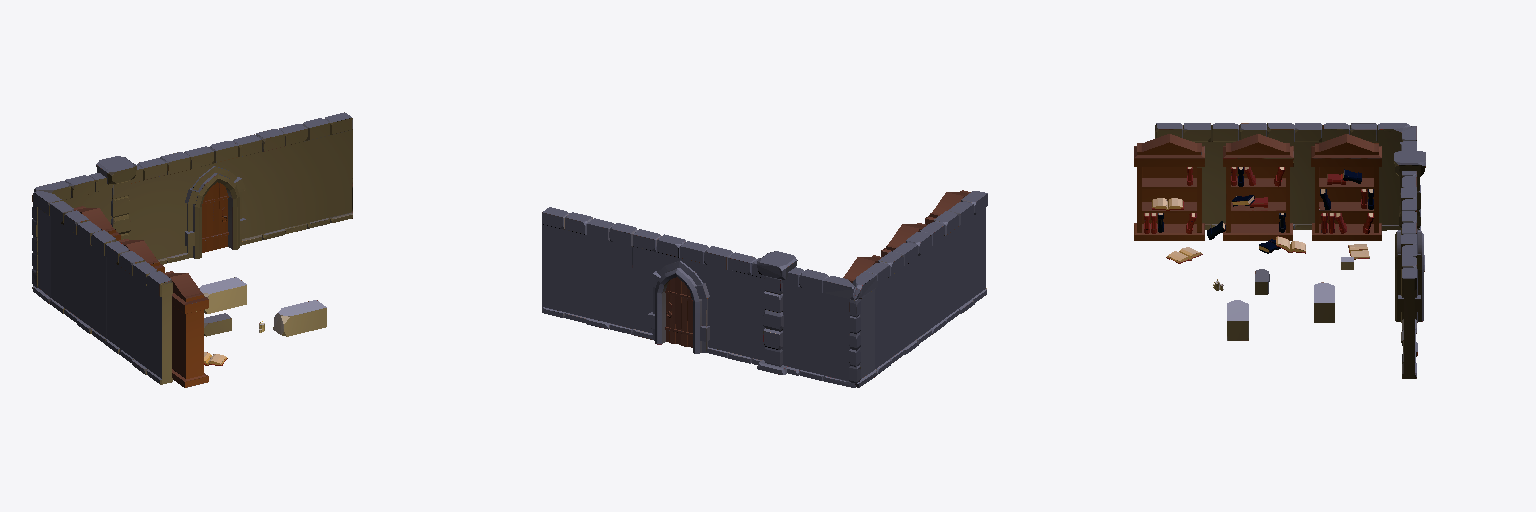
The picture shows the model from 3 angles: view 1: azimuth 30°, elevation 25°; view 2: azimuth 150°, elevation 25°; view 3: azimuth 270°, elevation 25°; orthographic projection.
Visible parts, largest first — view 1: Wall5.001_Untitled.023; view 2: Wall5.001_Untitled.023; view 3: Wall5.001_Untitled.023.
Boxes of the visible parts, box(x1,y1,x2,y2) form: Wall5.001_Untitled.023: box(32, 112, 352, 387); Wall5.001_Untitled.023: box(542, 190, 987, 387); Wall5.001_Untitled.023: box(1134, 123, 1425, 378).
Bounding box in the file's own units: 8.26 × 3.13 × 6.58.
Materials: 1 (1 with a texture image).